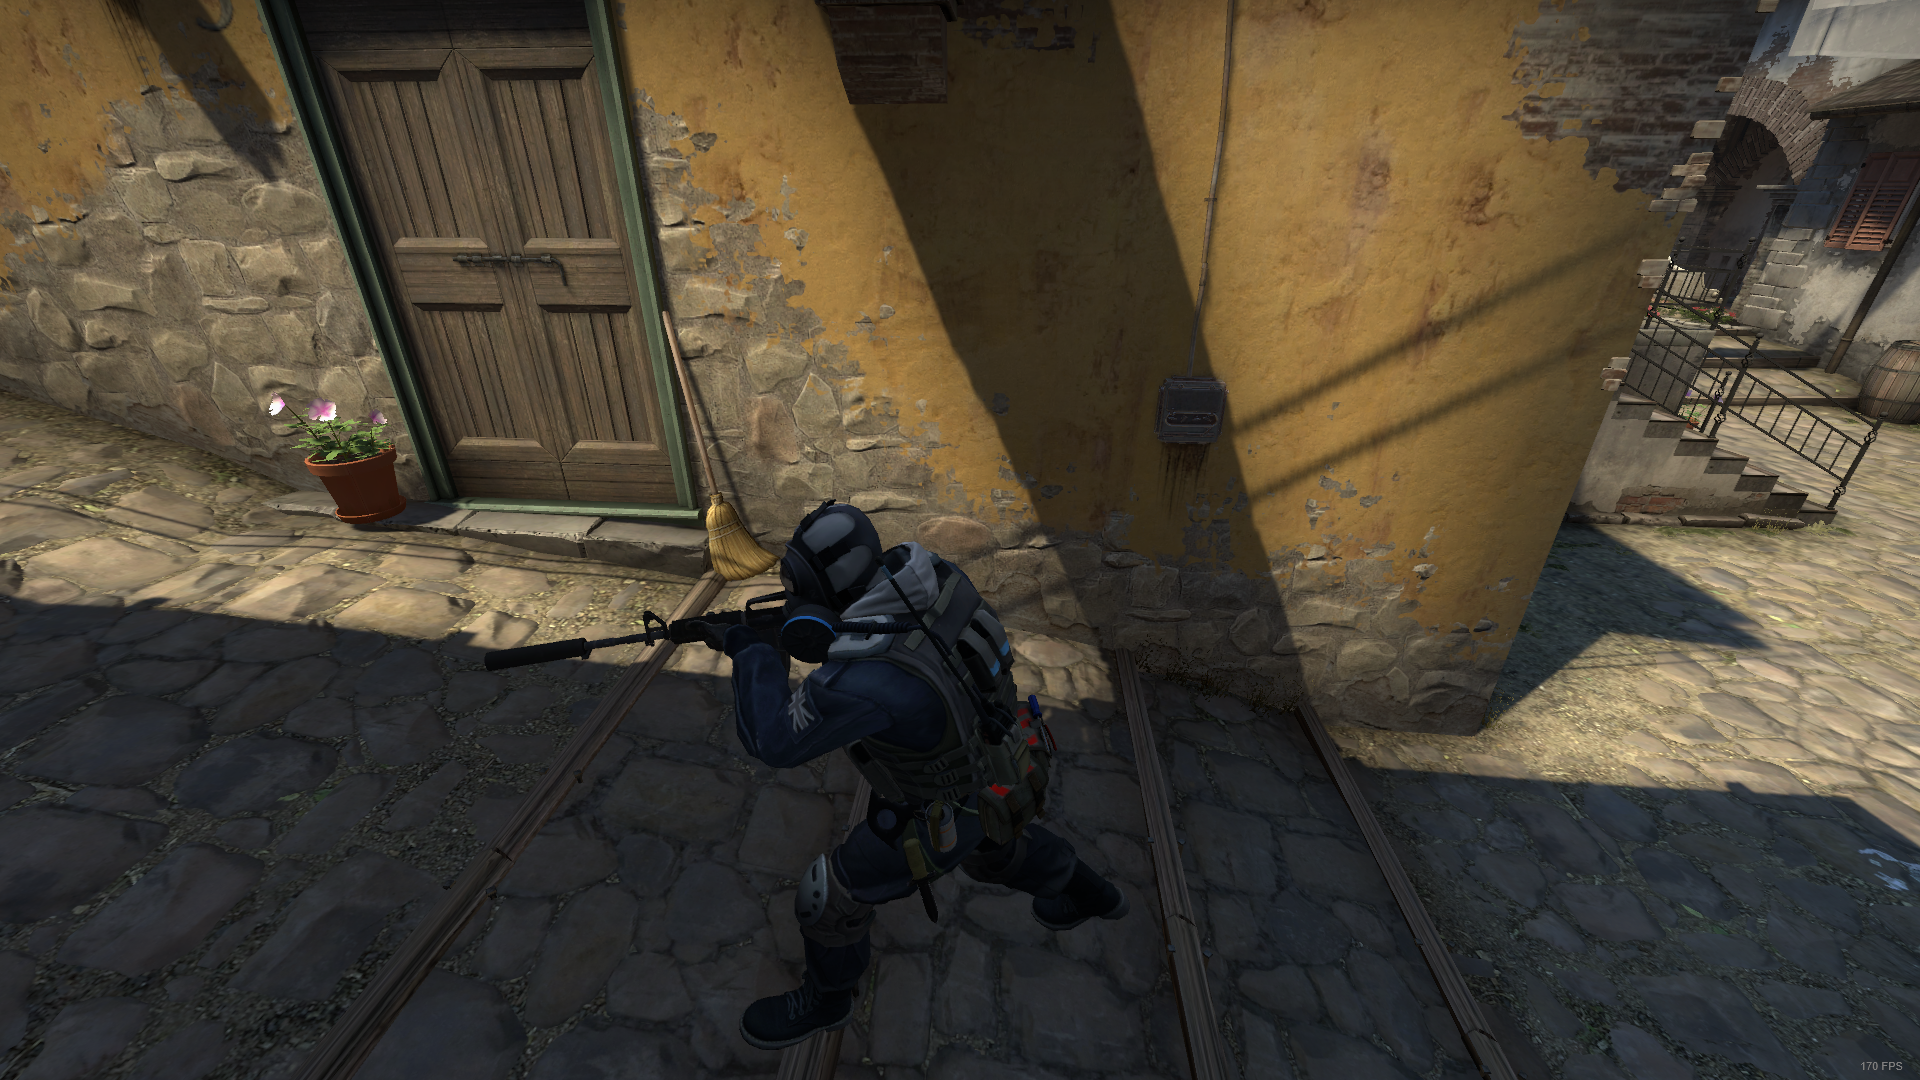ct: (724, 495, 1159, 1055)
